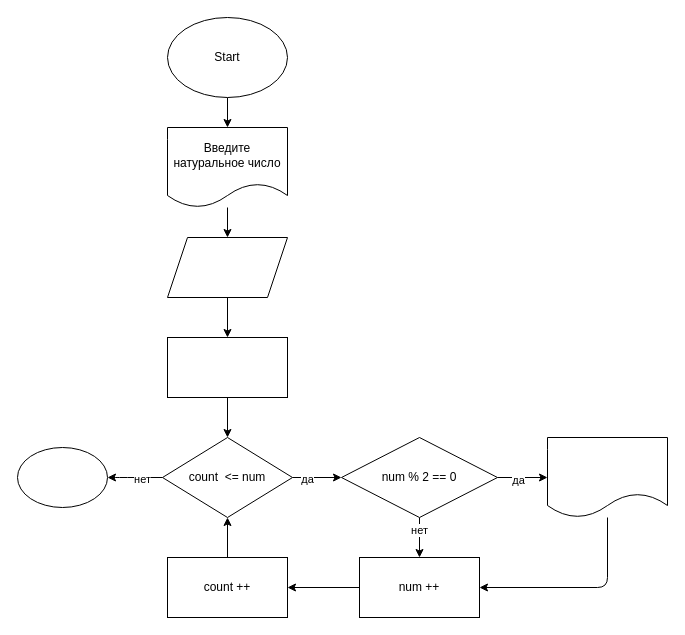
Some shapes in this 685 by 635 pixel diagram are drawn without their labels. Here are the shapes that lost their labels. From the top down, the centre of each, then its label:
the point at 227,267: int num
the point at 62,477: End
the point at 607,477: num
